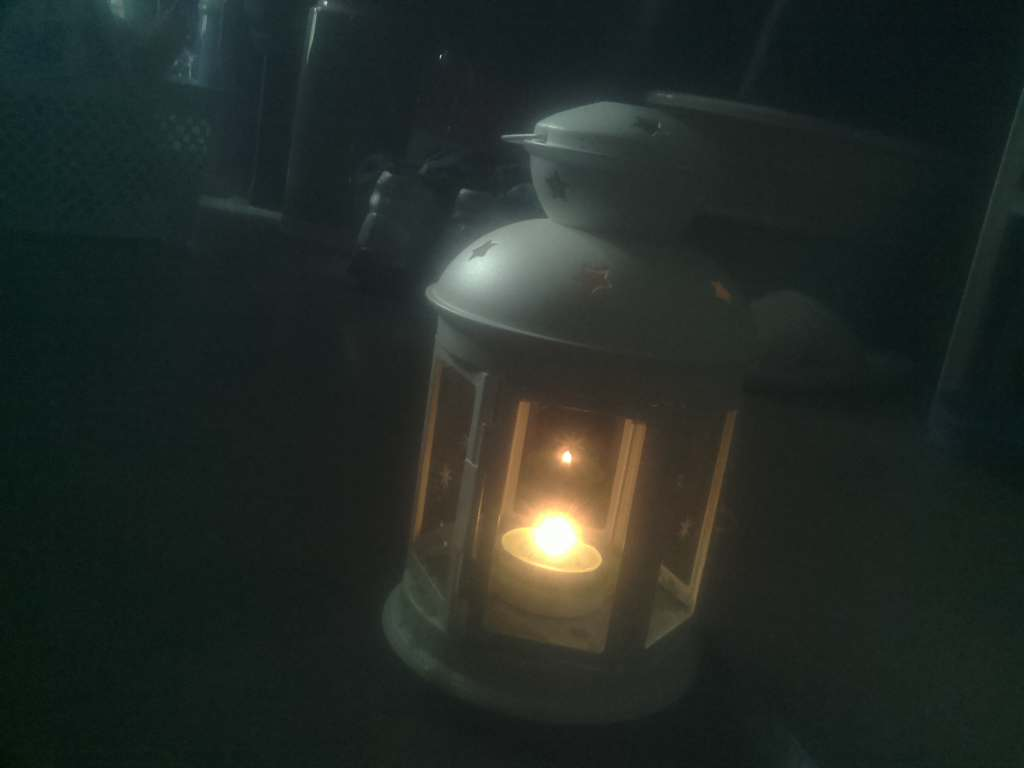fire: (498, 489, 605, 597)
